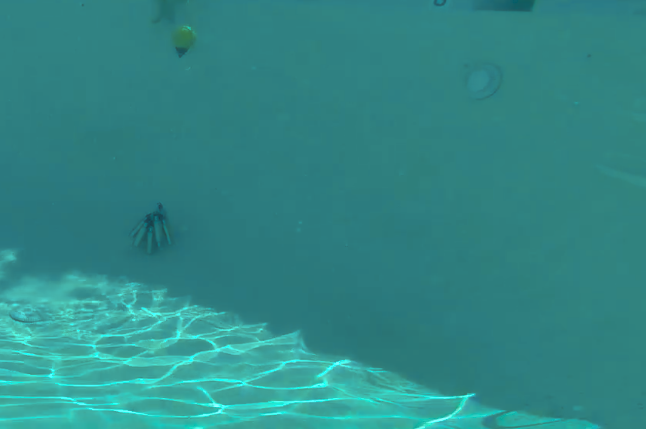yellow_buoy: (170, 23, 199, 62)
